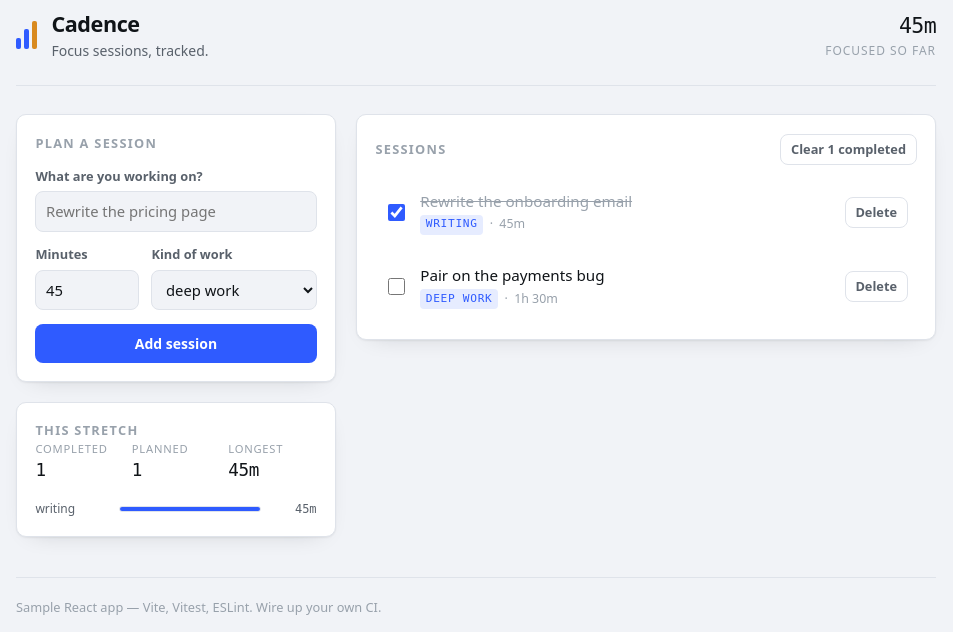
Test case: App › deletes a session
Click the button with aria-label "delete pair on the payments bug": (876, 286) [845,271,908,302]
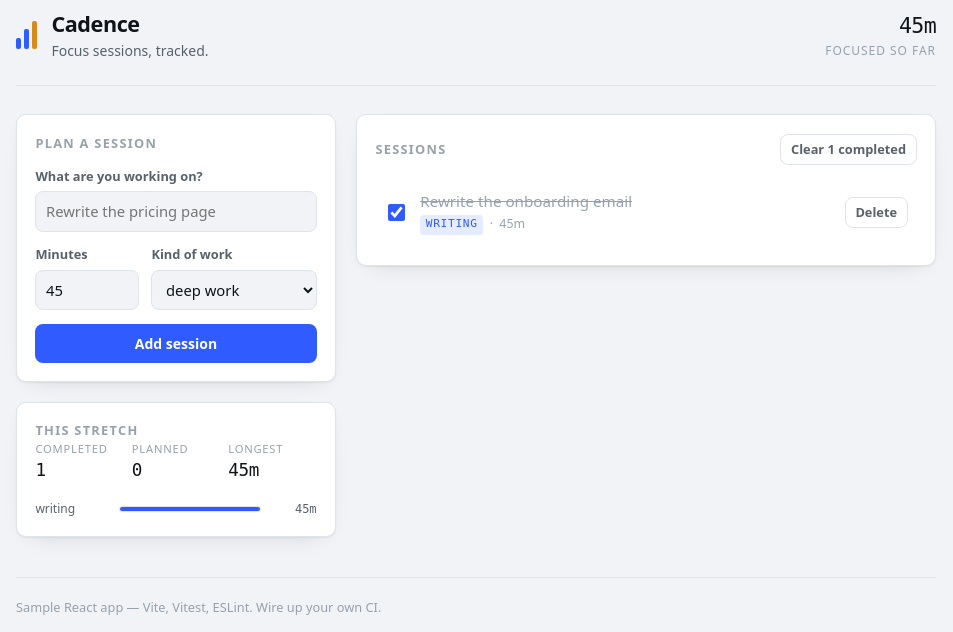
Result: the text "Pair on the payments bug" is gone
